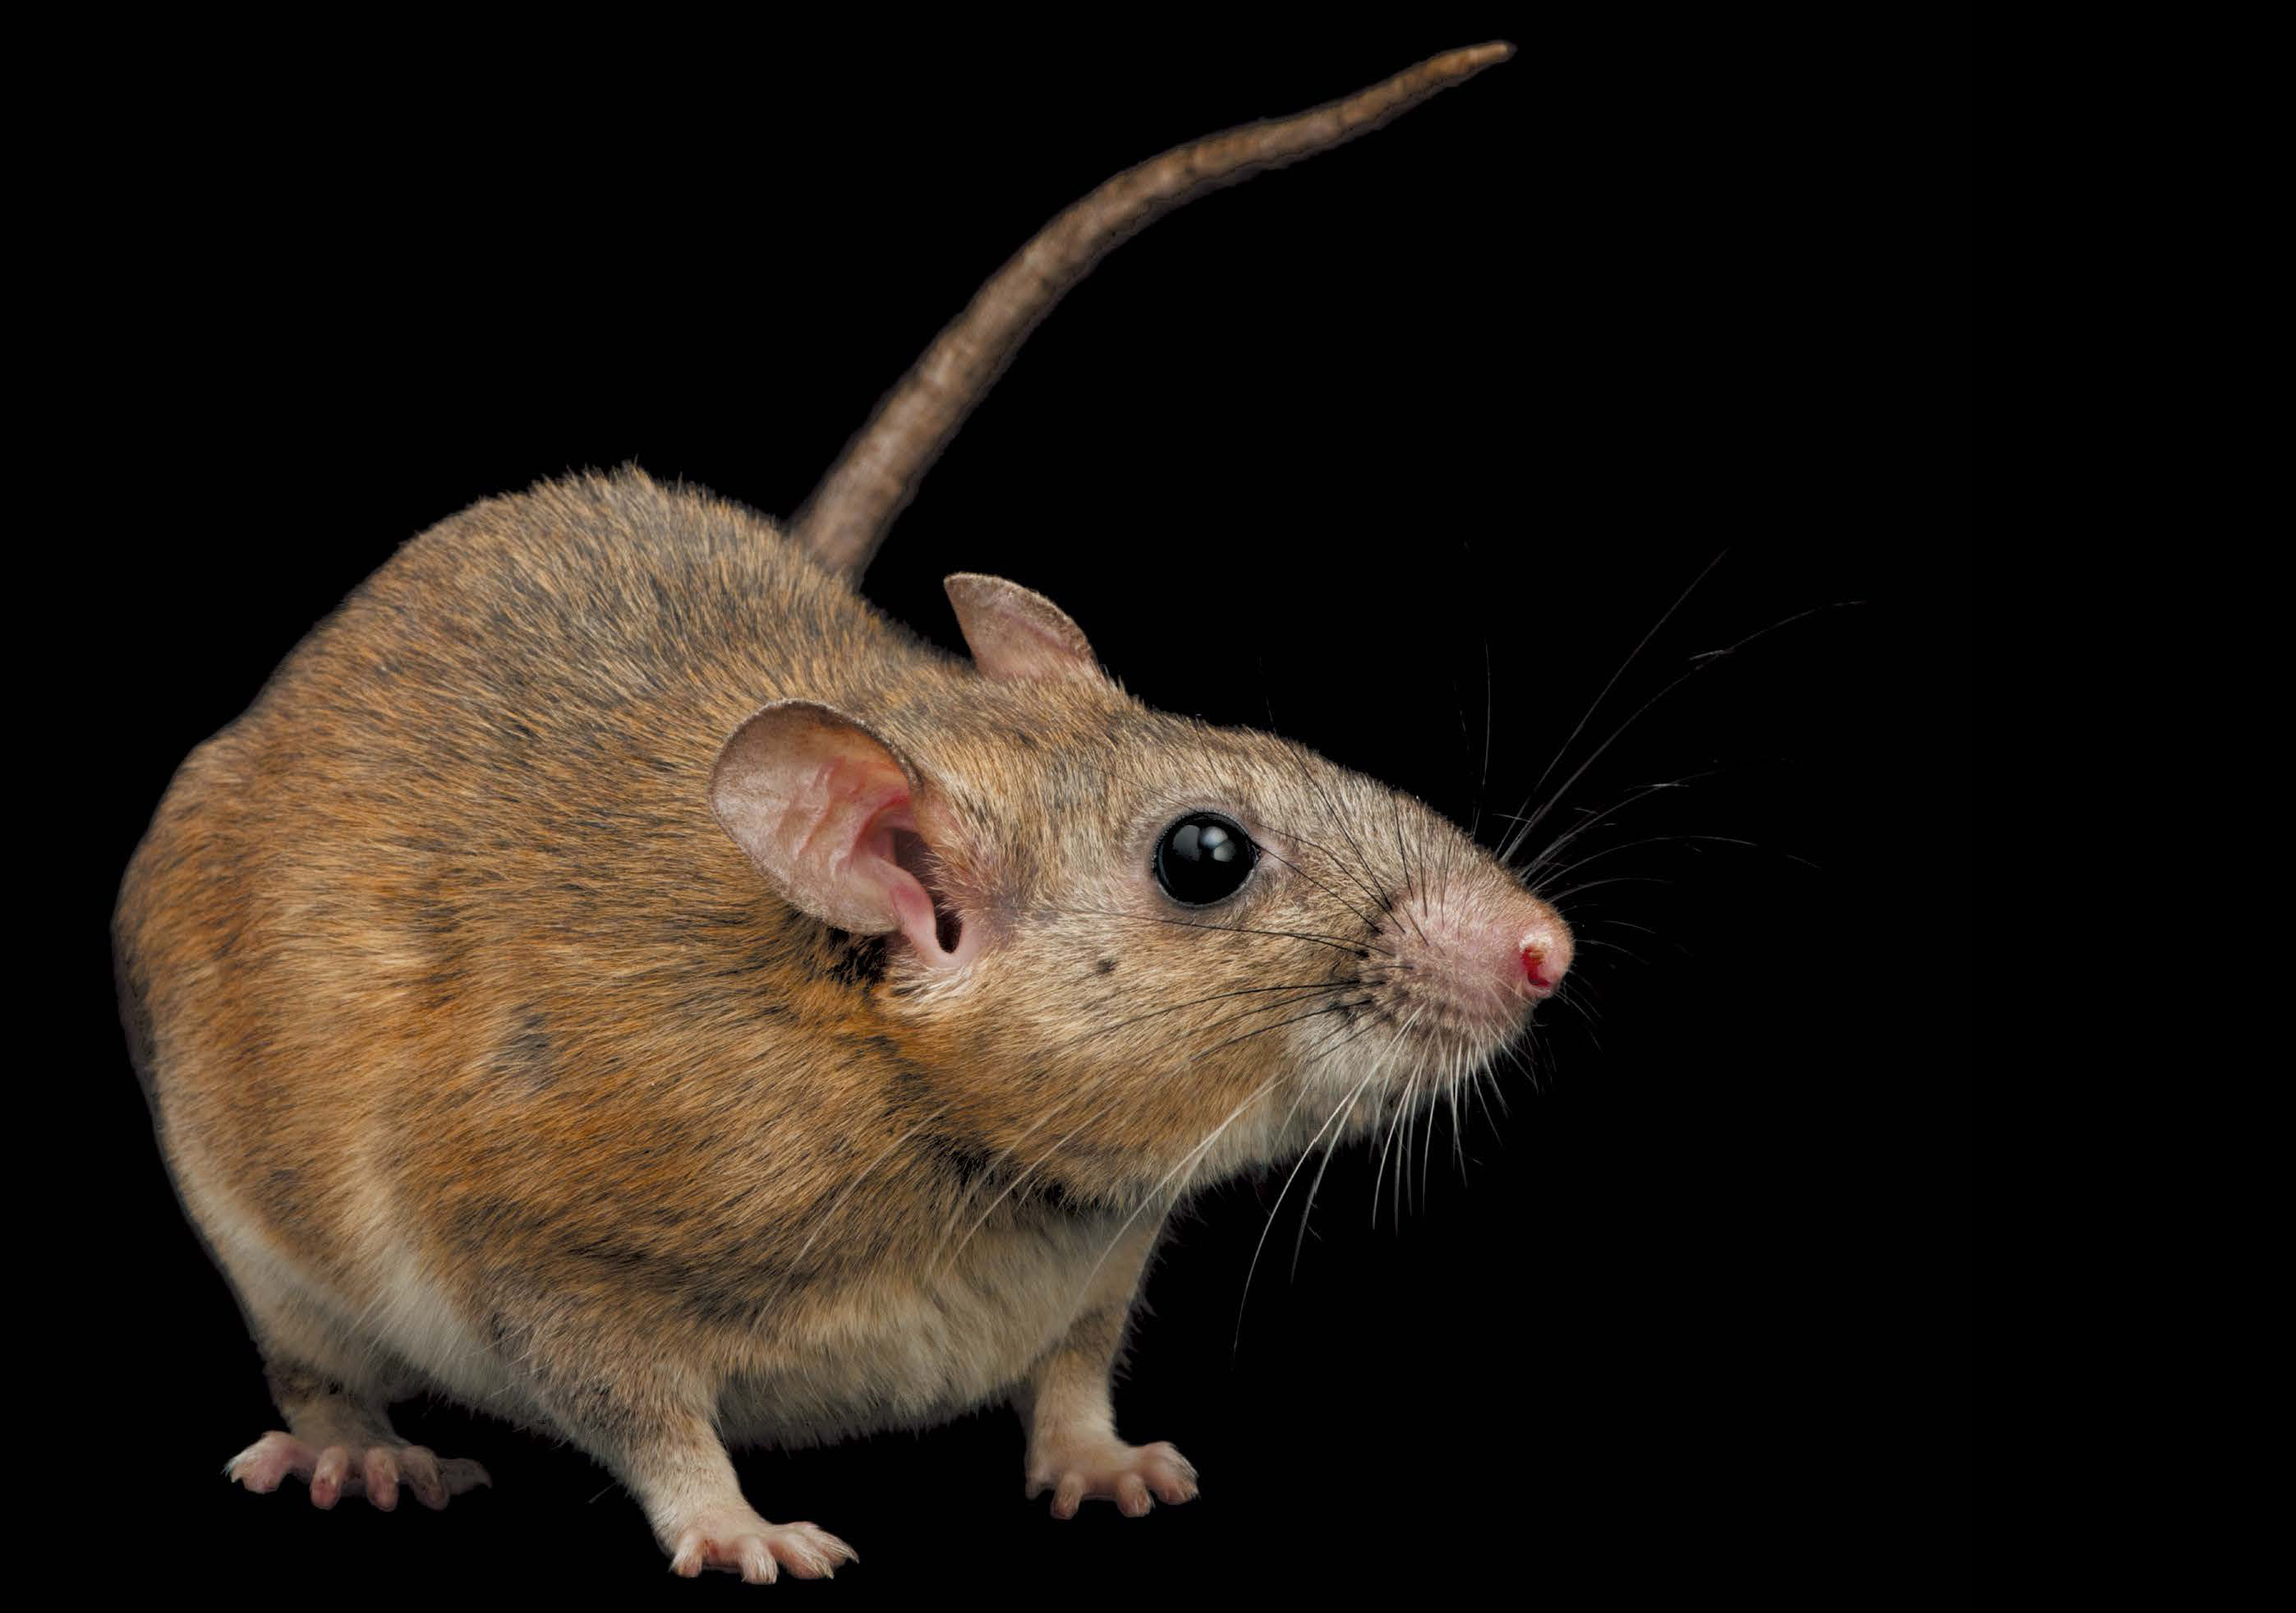mouse: (59, 405, 1712, 1580)
